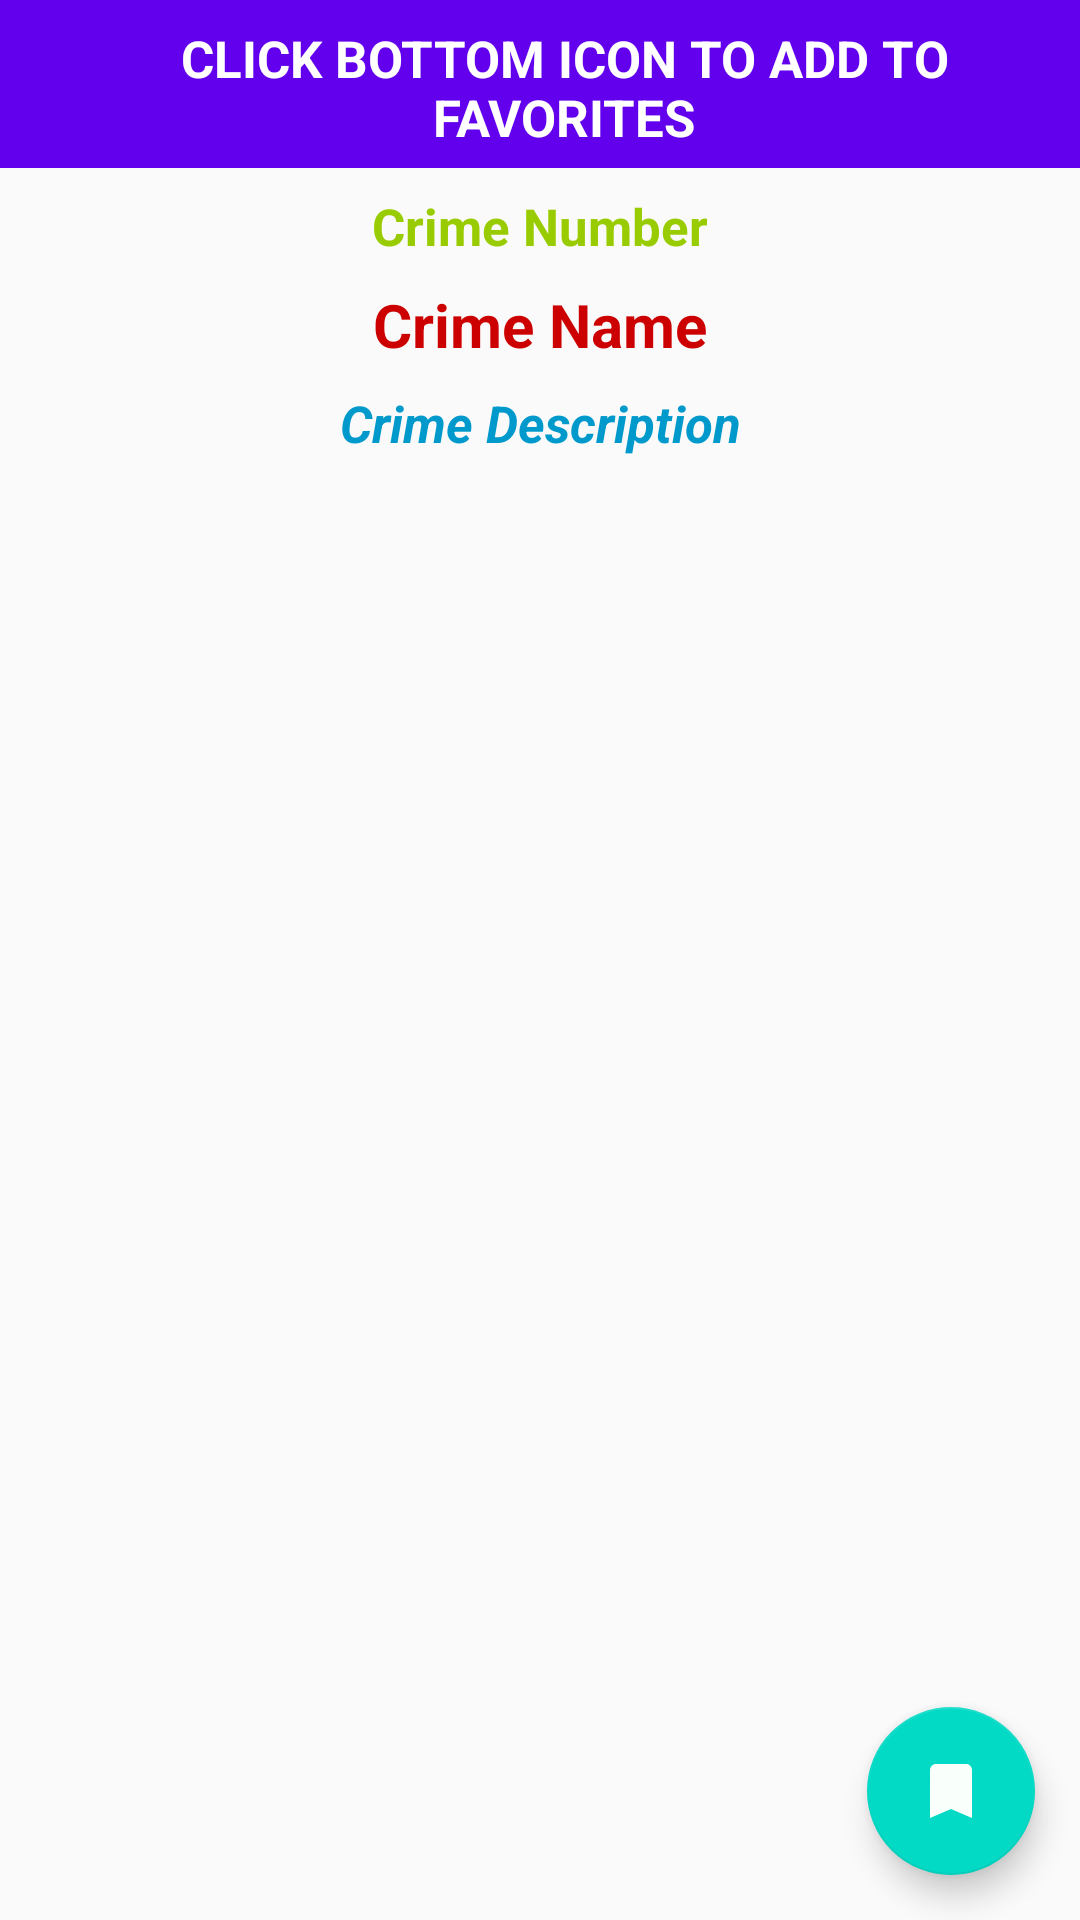

Named icons in this screenshot (1080 x 1920) and their bounding boxes, {"x1": x1, "y1": y1, "x2": x2, "y2": y2}:
add to bookmarks: {"x1": 867, "y1": 1707, "x2": 1035, "y2": 1875}
